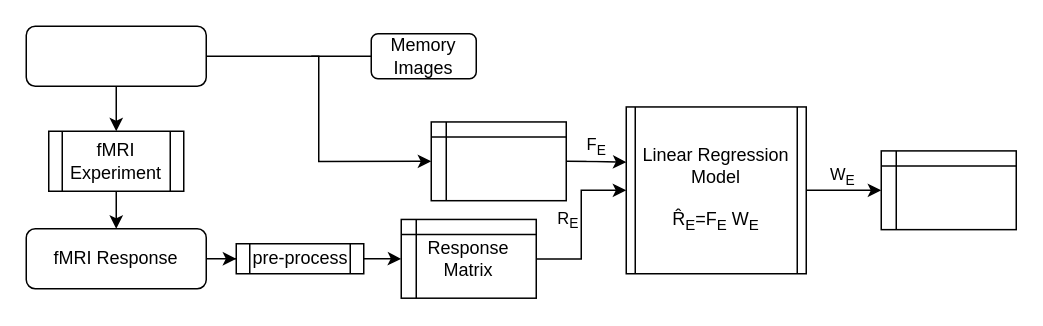
Image size: 1043x326. Some labels were removed from this diagram. Here are the shapes that lost their labels. From the top down, the centre of each, then its label:
At (115,55): "Current Image".
At (498,160): "Feature Matrix".
At (948,189): "Weight Matrix of Task-t.".
